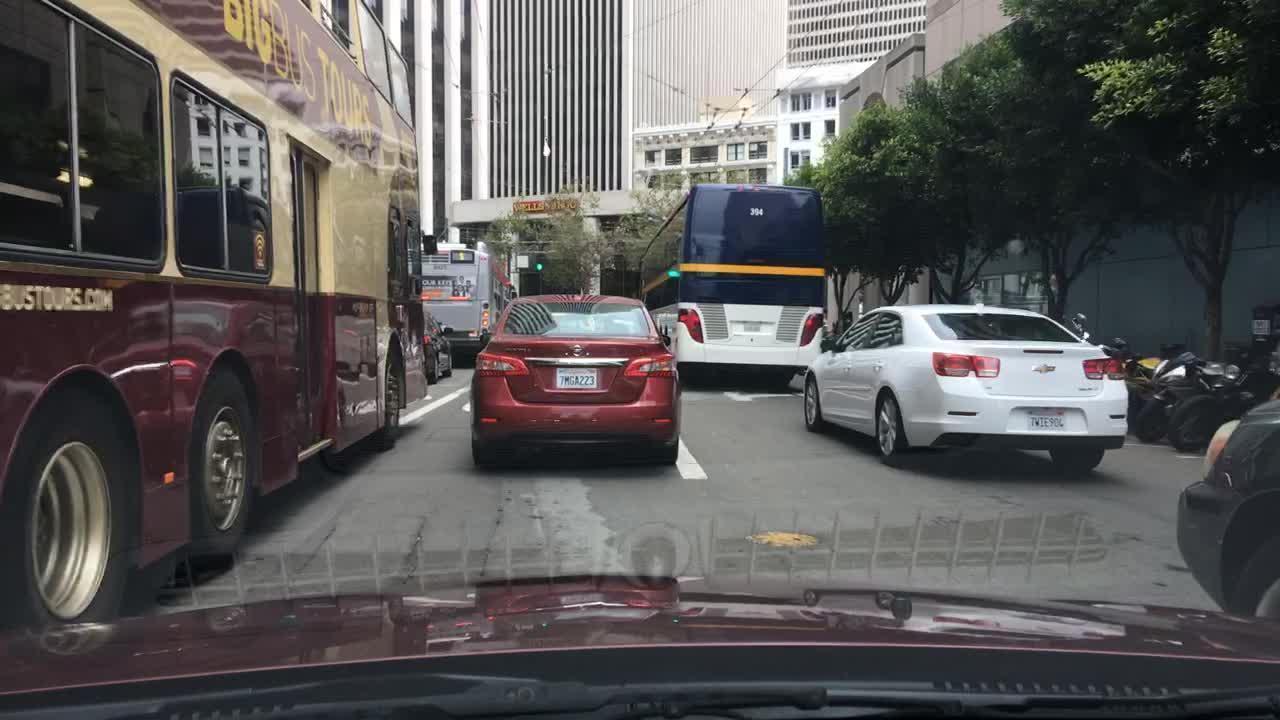Nissan: (569, 342, 583, 358)
chevrolet: (1029, 360, 1056, 377)
